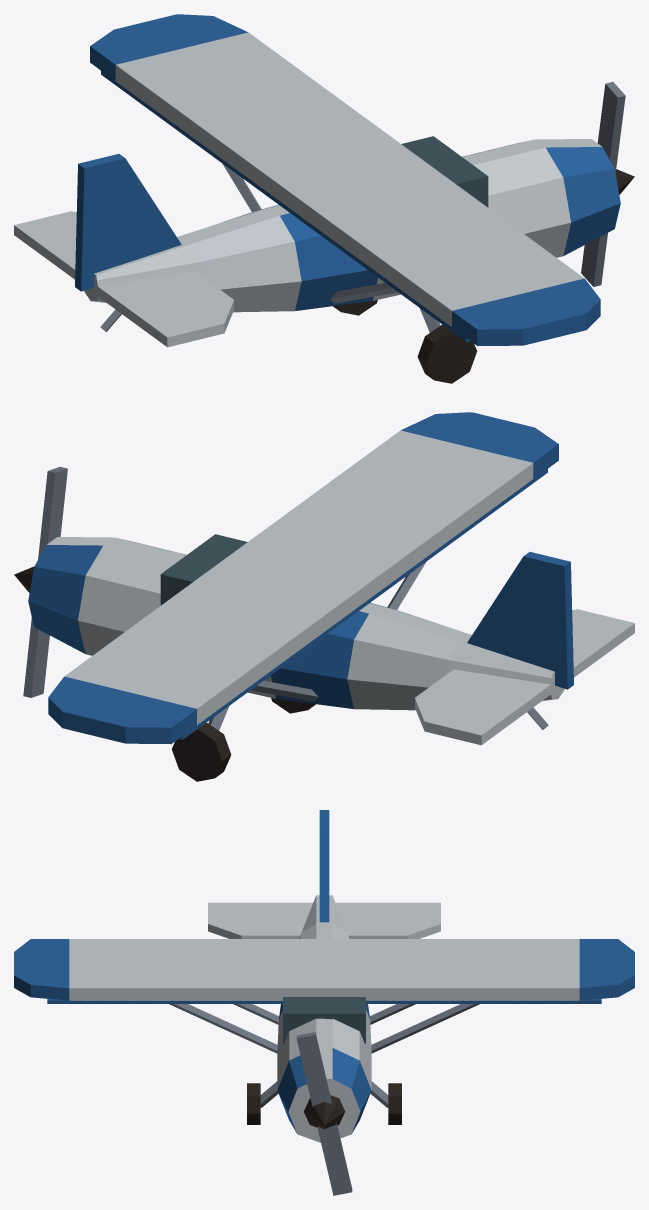
3 views of the same model, one above another, from view 1: azimuth 30°, elevation 25°; view 2: azimuth 150°, elevation 25°; view 3: azimuth 270°, elevation 25° (orthographic). The views are drawn at different scales.
Parts seen in each view (by area): view 1: plane; view 2: plane; view 3: plane.
Boxes of the visible parts, x1=… form: plane: x1=14, y1=14, x2=634, y2=383; plane: x1=14, y1=412, x2=634, y2=781; plane: x1=14, y1=810, x2=634, y2=1195.
Size of the model in its own units: 1.76 by 0.78 by 2.24.
